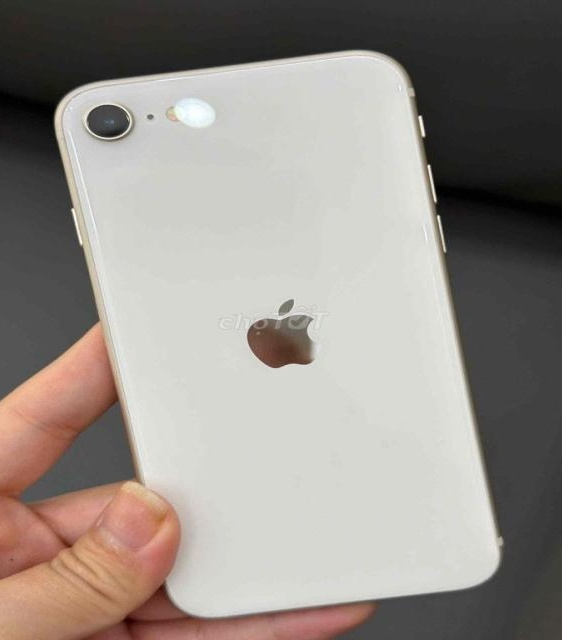scratch: (62, 131, 101, 244), (62, 95, 83, 114)
screen_defect: (167, 94, 217, 131)
